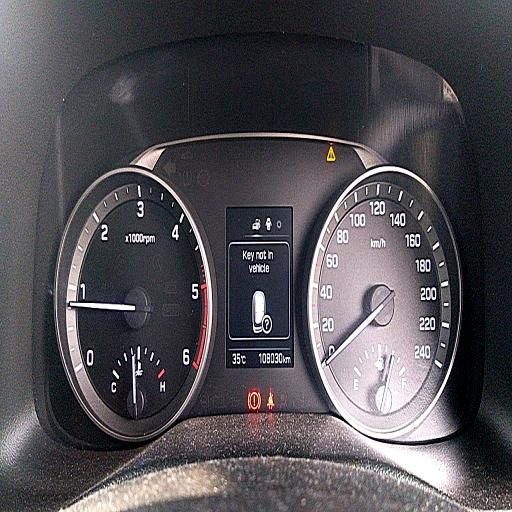belt: (266, 391, 274, 410)
brake_system_fault: (248, 391, 261, 410)
tachometer: (64, 179, 209, 418)
